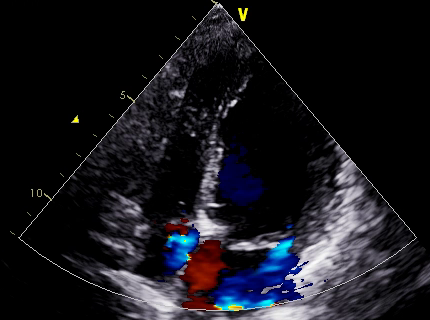MR: (226, 225, 300, 272)
